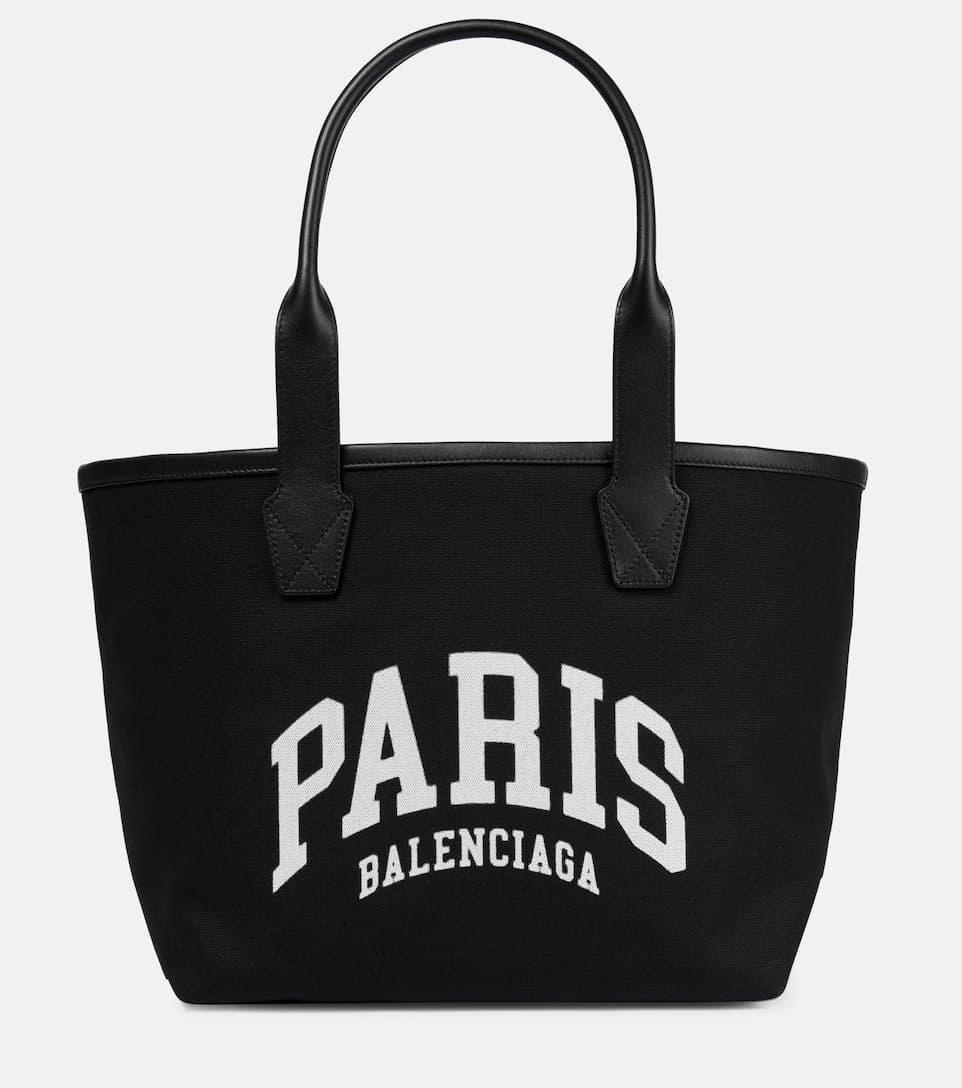BALENCIAGA: (359, 827, 600, 899)
